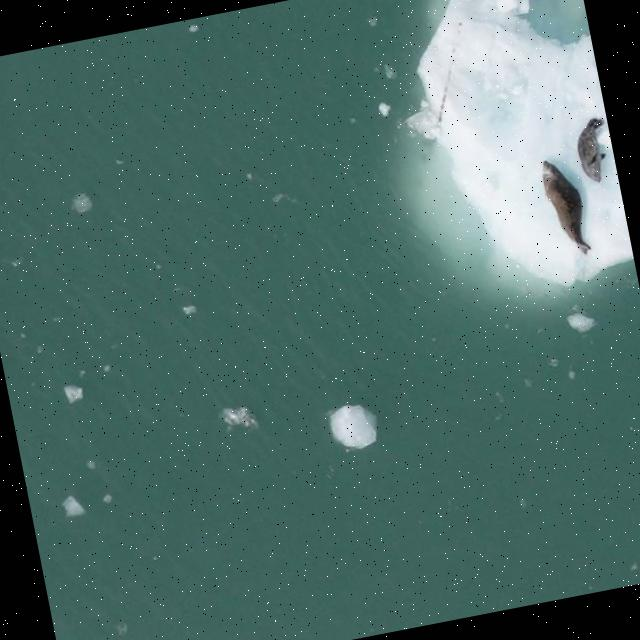seal: (529, 152, 606, 260), (576, 117, 609, 184)
